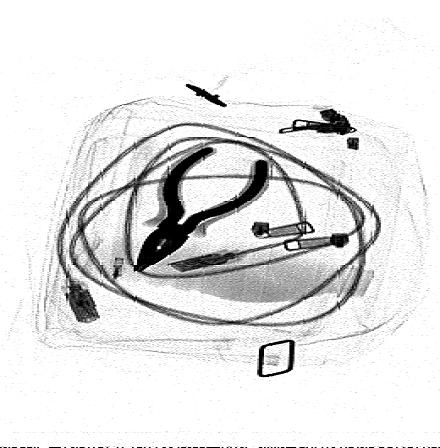Pliers: (130, 144, 272, 277)
